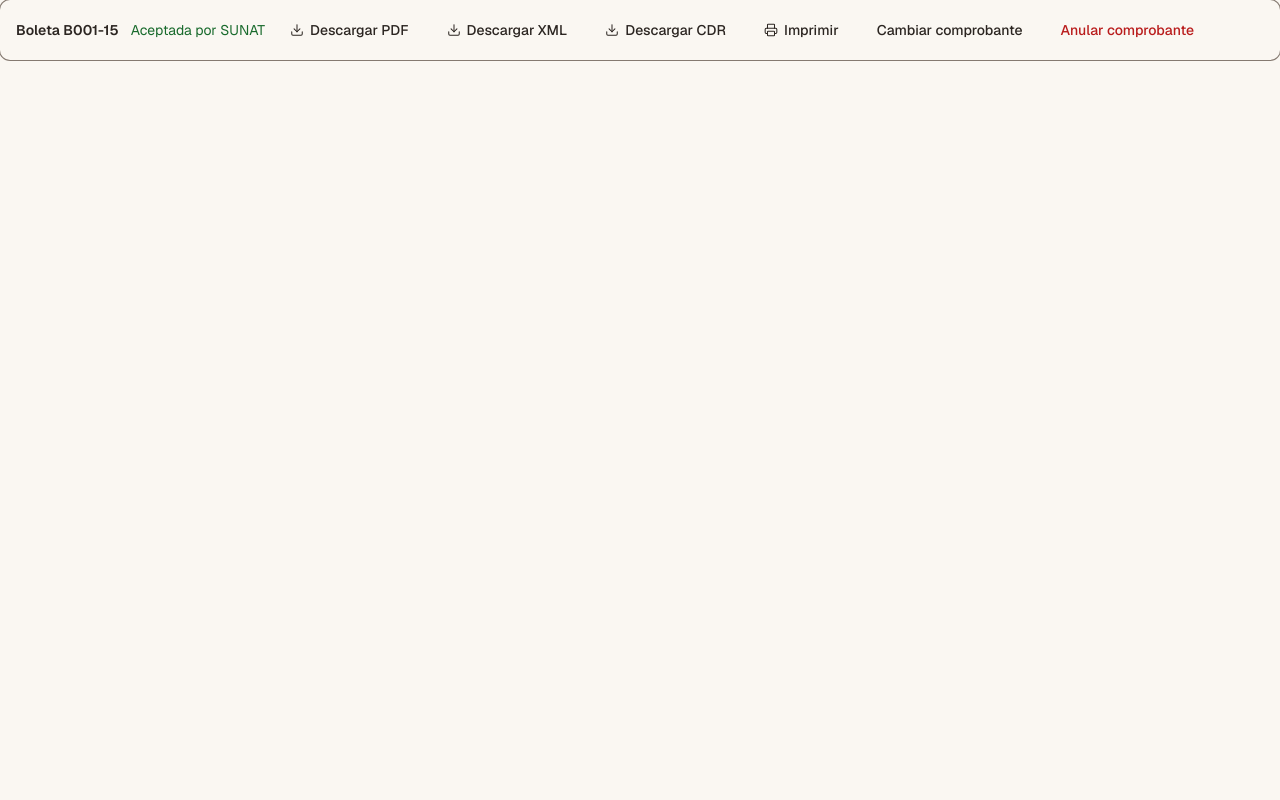
Test: Anular un comprobante según su estado › el motivo es obligatorio: sin él no se envía nada
The image size is (1280, 800).
Click the button "Anular comprobante" at (1127, 30), box [1048, 12, 1207, 48]
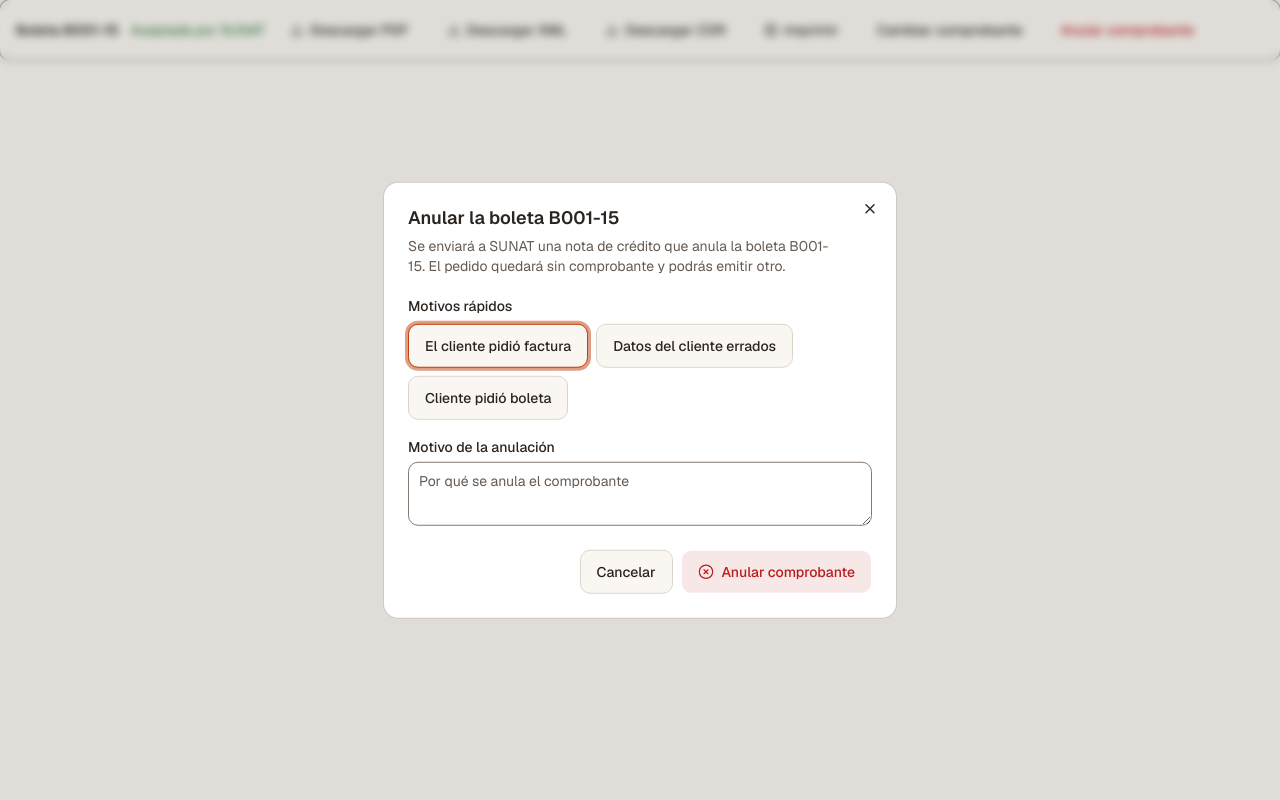
Click the button "Anular comprobante" at (776, 571), box [680, 549, 872, 593]
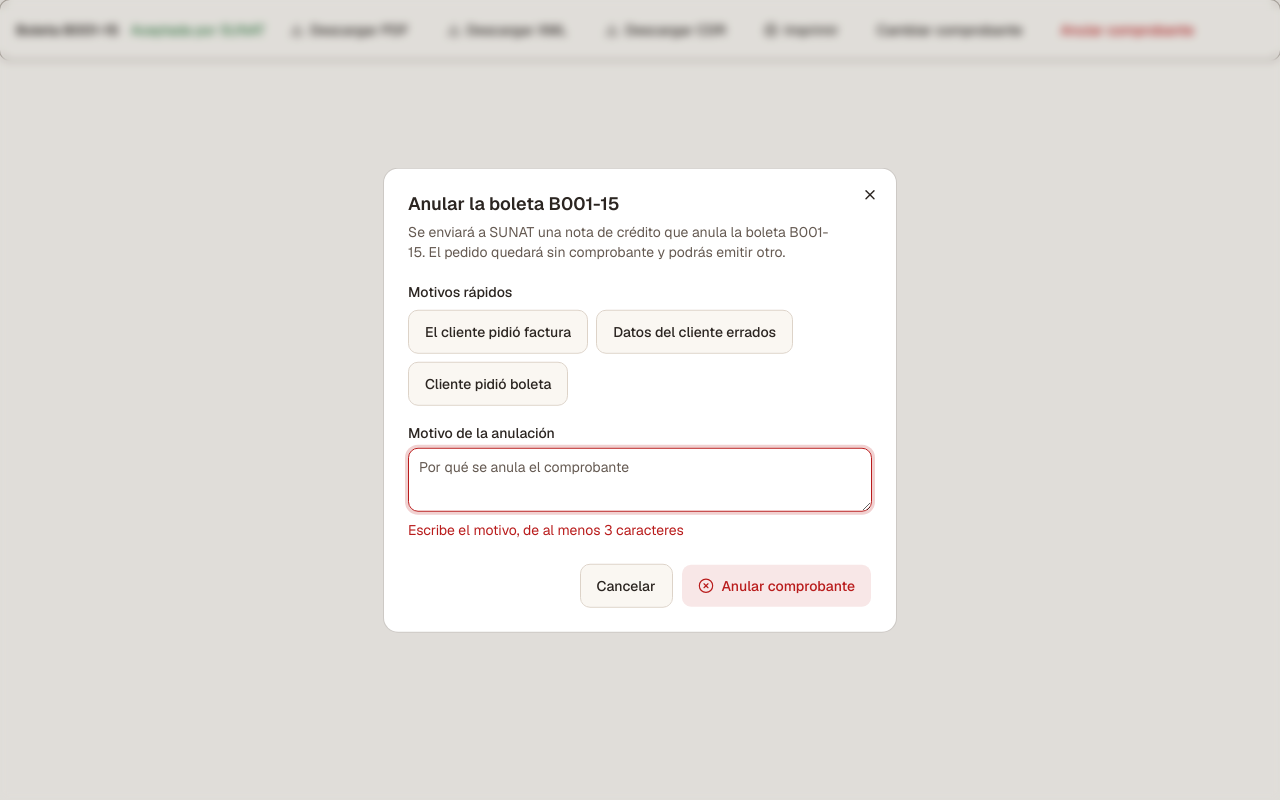
Expected: the text "Escribe el motivo, de al menos 3 caracteres" is shown, [408, 520, 684, 538]
